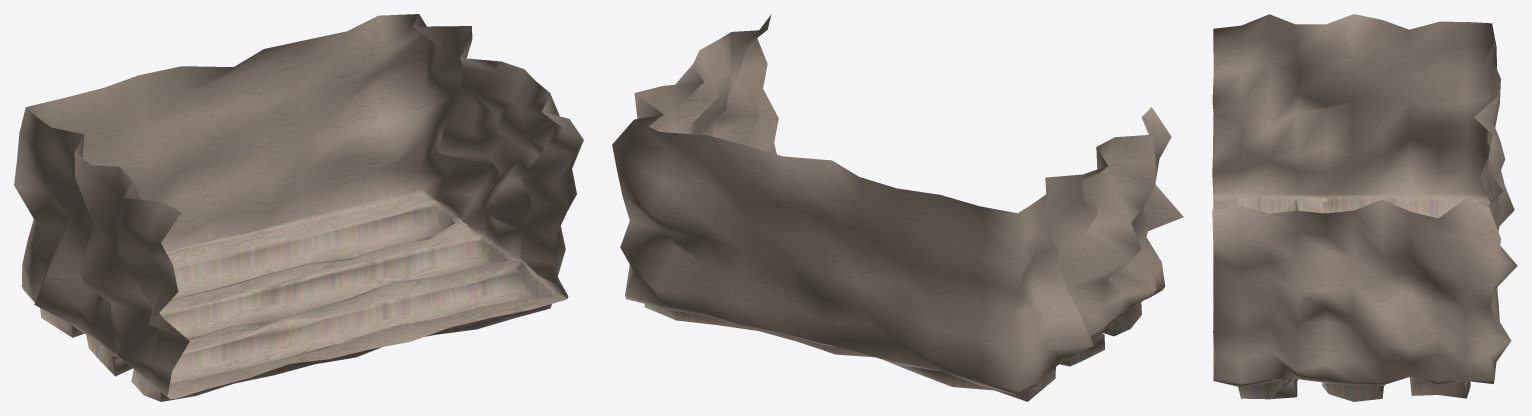
File: tunnel2.glb
3 renders of one model, left to right at view 1: azimuth 30°, elevation 25°; view 2: azimuth 150°, elevation 25°; view 3: azimuth 270°, elevation 25°, orthographic. The views are drawn at different scales.
Visible parts, largest first — view 1: Plane; view 2: Plane; view 3: Plane.
Part boxes in pixels (bbox=[...]): Plane: bbox=[14, 14, 583, 401]; Plane: bbox=[612, 14, 1183, 401]; Plane: bbox=[1212, 14, 1517, 401].
Size of the model in its own units: 36.42 by 15.61 by 21.74.
Materials: 1 (1 with a texture image).
